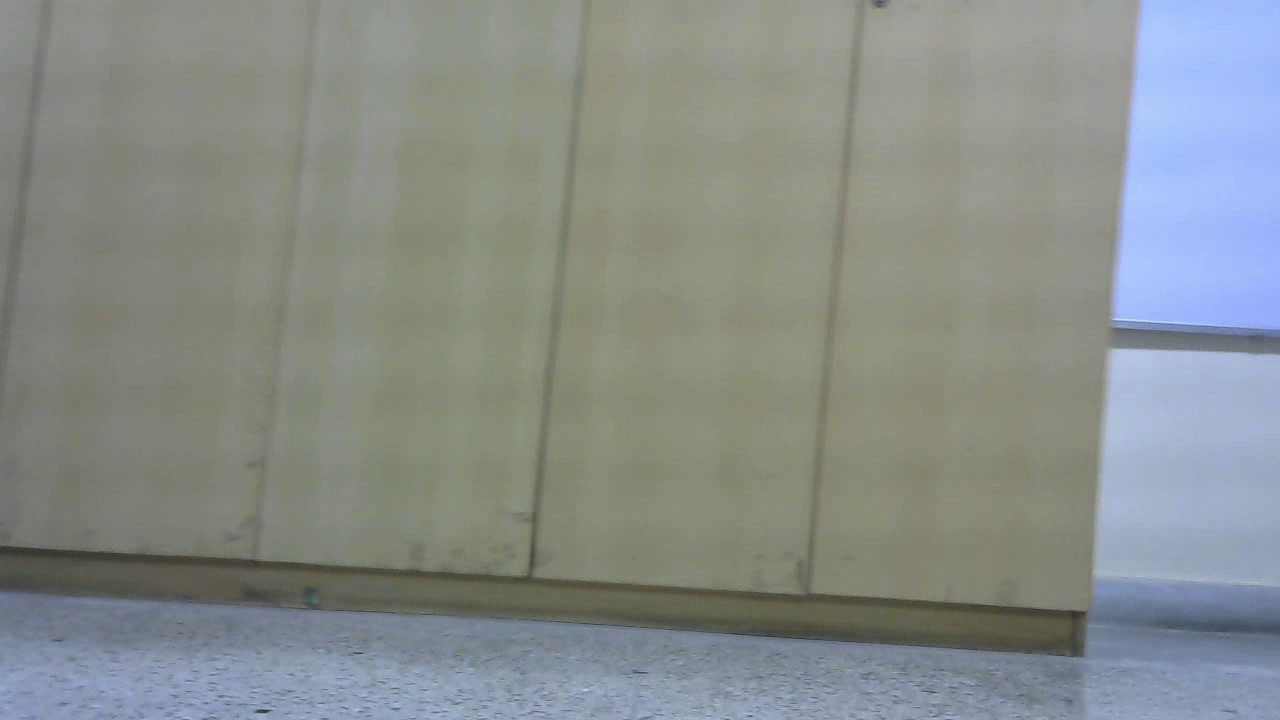chair: (6, 70, 222, 565)
